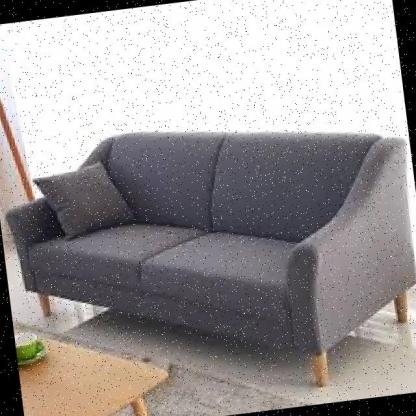Sofa: (0, 84, 416, 416)
